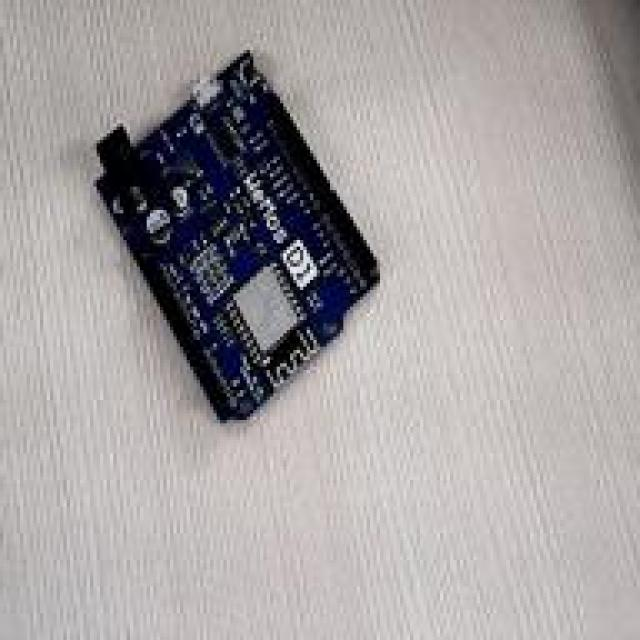Wemos: (98, 54, 378, 421)
